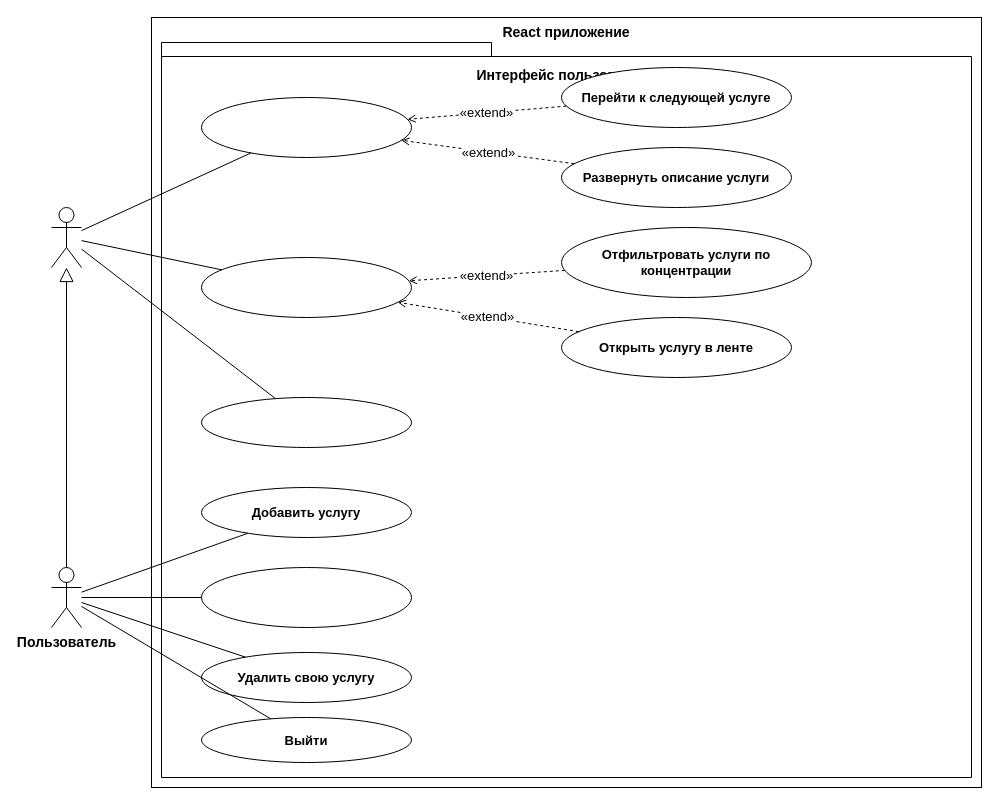
Image size: 999x805. Some labels were removed from this diagram. The shapes that lost their labels are listed below. From the top down, each one's centre as x and y in pixels, then its label:
point 306,127: Посмотреть ленту услуг
point 66,237: Гость
point 306,287: Посмотреть плитку услуг
point 306,422: Авторизоваться
point 306,597: Поставить или снять лайк
